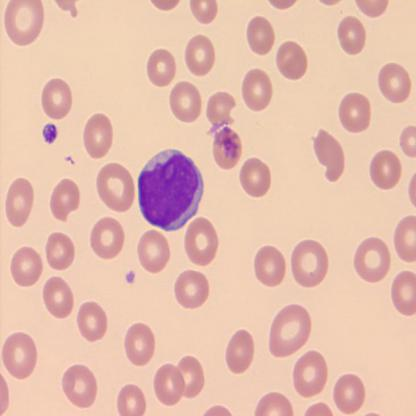Blast: (135, 145, 207, 236)
